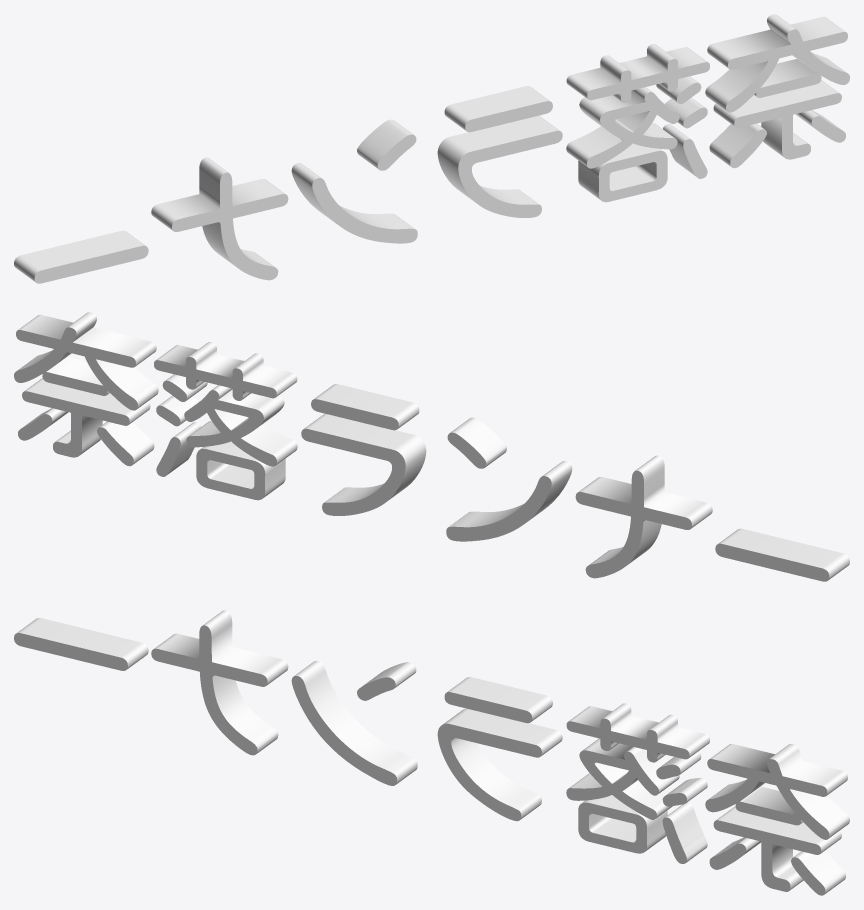
File: Title.obj
3 views of the same model, one above another, from view 1: azimuth 30°, elevation 25°; view 2: azimuth 150°, elevation 25°; view 3: azimuth 330°, elevation 25° (orthographic).
Visible parts, largest first — view 1: テキスト; view 2: テキスト; view 3: テキスト.
Boxes of the visible parts, bbox=[...] form: テキスト: bbox=[14, 14, 849, 283]; テキスト: bbox=[14, 312, 849, 581]; テキスト: bbox=[14, 610, 849, 895].
Size of the model in its own units: 22.83 by 3.46 by 1.
Materials: 1 (1 with a texture image).
